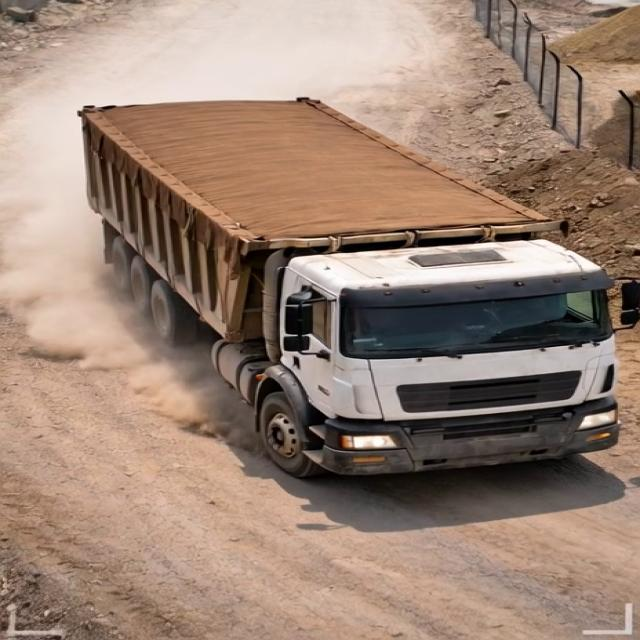trailer: (38, 100, 559, 227)
truck: (27, 66, 640, 509)
